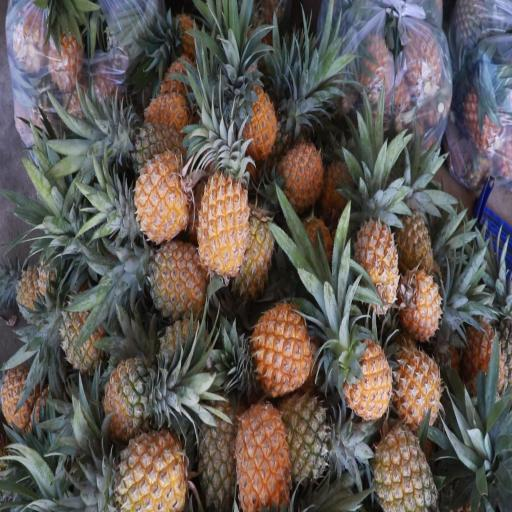------------------------------: (192, 369, 244, 511), (272, 391, 342, 487), (92, 358, 170, 444), (370, 414, 438, 512), (55, 284, 107, 380), (121, 122, 181, 181)
Pineapple - v8 v1: (106, 416, 187, 512), (233, 388, 292, 512), (246, 295, 312, 399), (195, 152, 247, 277), (130, 146, 193, 247), (137, 234, 208, 323), (349, 204, 398, 326), (336, 322, 394, 425), (388, 338, 446, 434), (226, 176, 273, 290), (271, 132, 325, 216), (394, 266, 445, 349), (392, 190, 437, 282), (236, 74, 278, 158)
